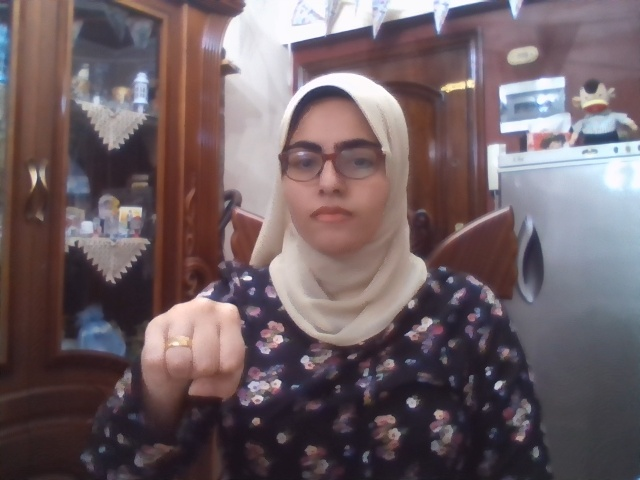yes: (142, 297, 246, 398)
